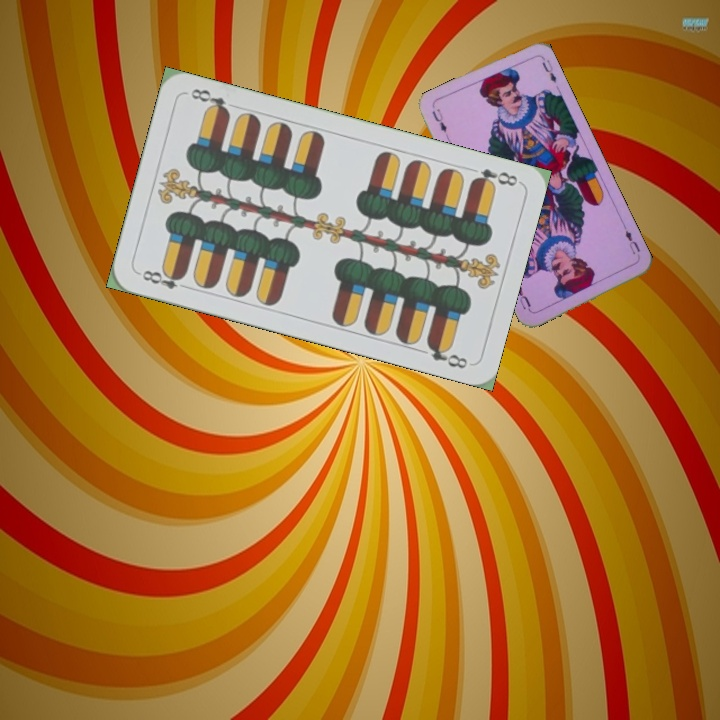E8: (138, 265, 193, 292), (468, 164, 521, 191)
EU: (428, 105, 452, 143), (620, 222, 643, 257)
